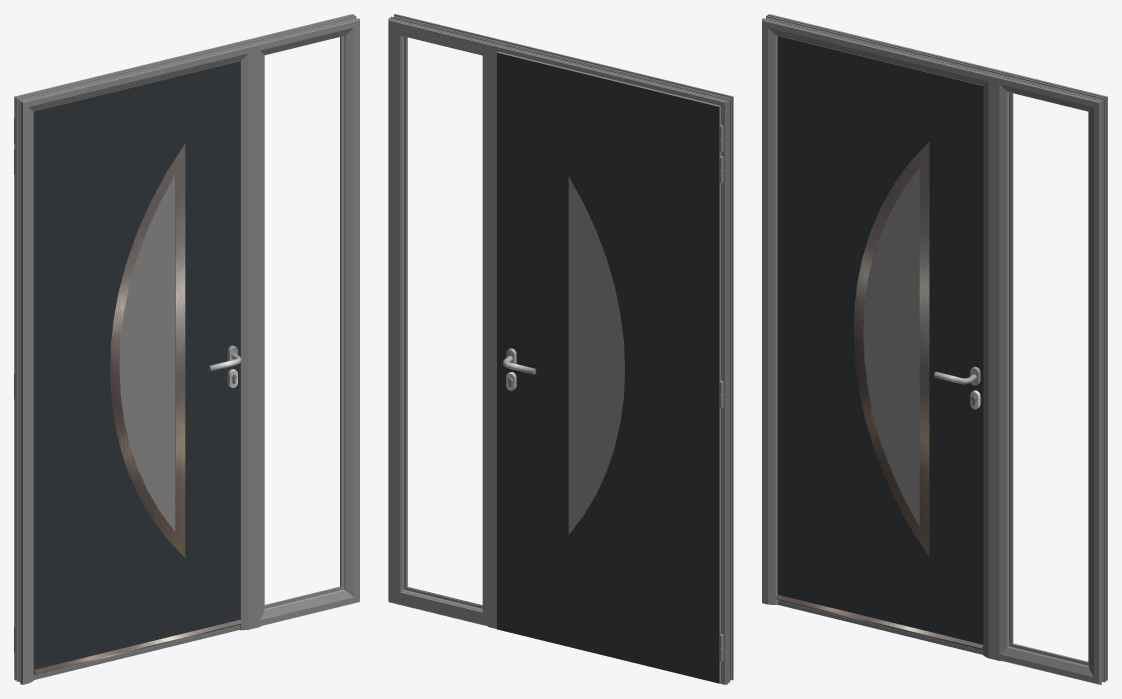
3 renders of one model, left to right at view 1: azimuth 30°, elevation 25°; view 2: azimuth 150°, elevation 25°; view 3: azimuth 330°, elevation 25°, orthographic.
Visible parts, largest first — view 1: bloco_147, Rectangle002, Line004, Vidro Porta, alunox_089, Object, Object001, Line005, Rectangle005, Rectangle003; view 2: bloco_147, Rectangle002, Vidro Porta, Rectangle003, Line004, Object001, Rectangle004, Object; view 3: bloco_147, Rectangle002, Line004, Vidro Porta, alunox_089, Object001, Object, Line005, Rectangle003, Rectangle005.
Part boxes in pixels (bbox=[...]): bloco_147: bbox=[33, 61, 240, 671]; Rectangle002: bbox=[14, 14, 359, 684]; Line004: bbox=[240, 46, 264, 630]; Vidro Porta: bbox=[119, 174, 175, 531]; alunox_089: bbox=[110, 143, 185, 557]; Object: bbox=[33, 35, 346, 680]; Object001: bbox=[264, 36, 344, 608]; Line005: bbox=[33, 620, 242, 674]; Rectangle005: bbox=[33, 625, 240, 679]; Rectangle003: bbox=[264, 37, 340, 605]; bloco_147: bbox=[497, 52, 719, 683]; Rectangle002: bbox=[388, 14, 733, 684]; Vidro Porta: bbox=[568, 177, 624, 534]; Rectangle003: bbox=[394, 28, 487, 619]; Line004: bbox=[488, 41, 504, 628]; Object001: bbox=[401, 36, 482, 610]; Rectangle004: bbox=[496, 51, 720, 683]; Object: bbox=[404, 36, 482, 608]; bloco_147: bbox=[777, 36, 983, 644]; Rectangle002: bbox=[762, 14, 1107, 684]; Line004: bbox=[983, 77, 1007, 661]; Vidro Porta: bbox=[863, 168, 919, 524]; alunox_089: bbox=[853, 142, 929, 556]; Object001: bbox=[1007, 92, 1088, 665]; Object: bbox=[776, 35, 1088, 667]; Line005: bbox=[775, 595, 983, 649]; Rectangle003: bbox=[1012, 93, 1087, 662]; Rectangle005: bbox=[777, 600, 983, 654].
Bounding box in the file's own units: 1307 × 2150 × 192.
Materials: 7 (4 with a texture image).
